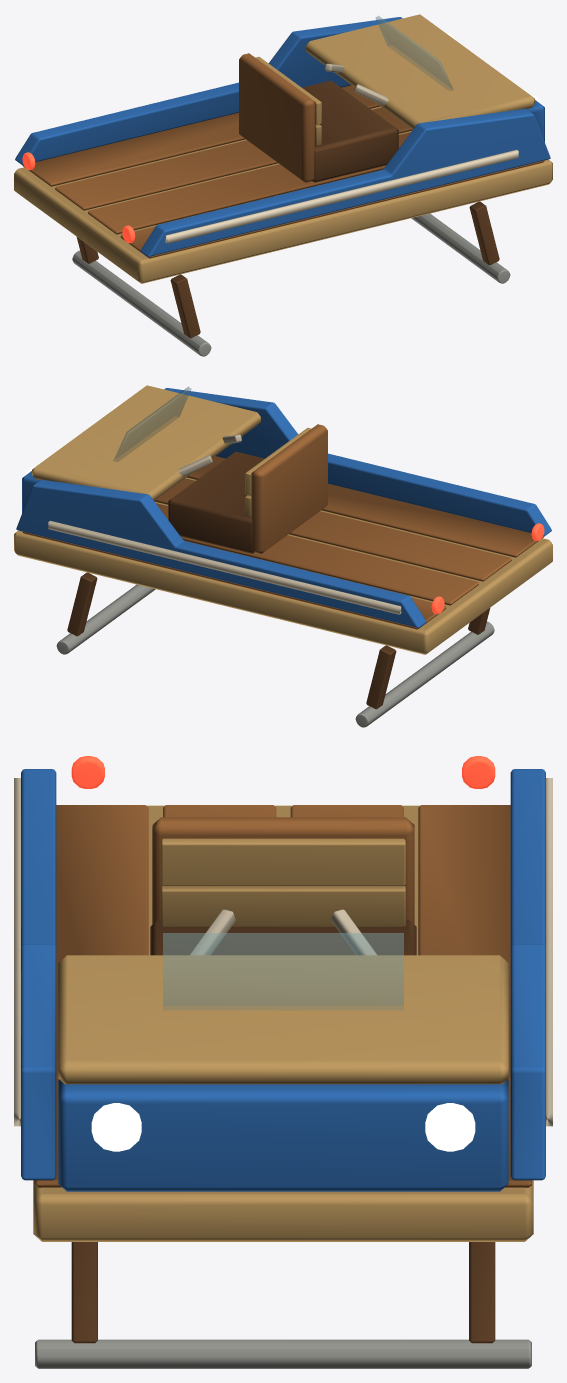
File: truck_billy.glb
The picture shows the model from 3 angles, top to bottom: view 1: azimuth 30°, elevation 25°; view 2: azimuth 150°, elevation 25°; view 3: azimuth 270°, elevation 25°; orthographic projection. The views are drawn at different scales.
Parts seen in each view (by area): view 1: Wooden floor, Spindle.001, Spindle; view 2: Wooden floor, Spindle.001, Spindle; view 3: Wooden floor, Spindle.
Part boxes in pixels (x1,y1,x2,y2): Wooden floor: (14, 14, 552, 283); Spindle.001: (72, 237, 211, 356); Spindle: (411, 201, 510, 283); Wooden floor: (14, 385, 552, 654); Spindle.001: (355, 608, 494, 727); Spindle: (56, 572, 155, 654); Wooden floor: (14, 756, 552, 1241); Spindle: (35, 1242, 531, 1368).
Bounding box in the file's own units: 2.66 × 1.26 × 1.52.
